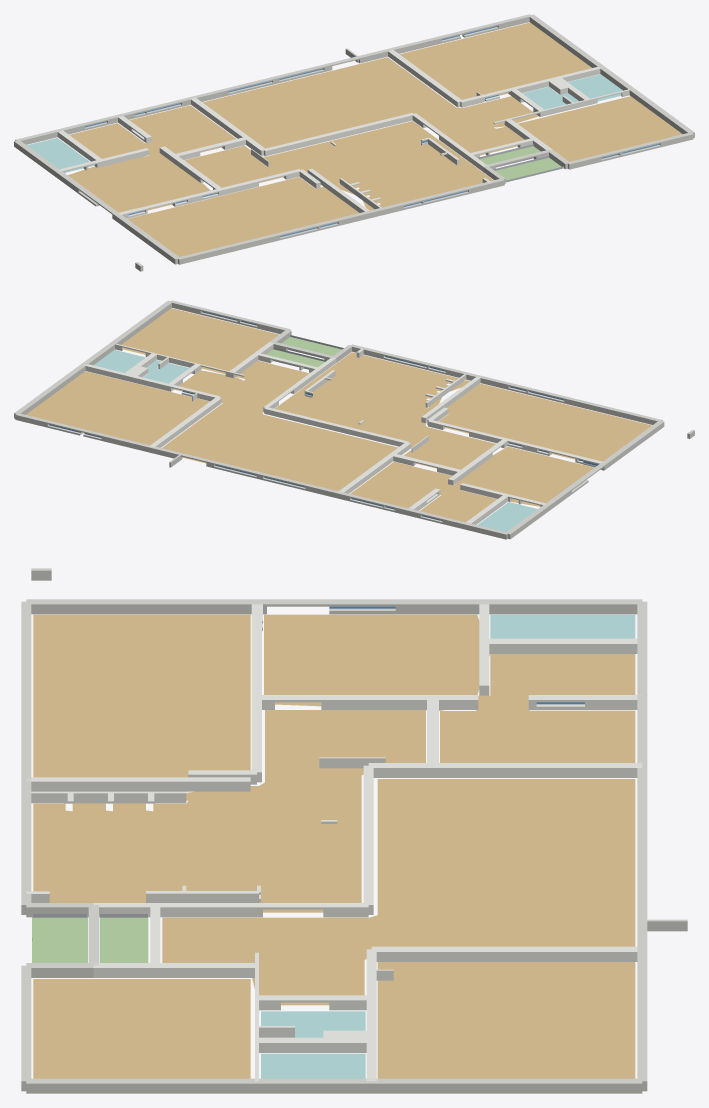
The model's file is Screenshot 2026-10-06 153119_3d.obj.
3 views of the same model, one above another, from view 1: azimuth 30°, elevation 25°; view 2: azimuth 150°, elevation 25°; view 3: azimuth 270°, elevation 25° (orthographic). The views are drawn at different scales.
Parts seen in each view (by area): view 1: floor_R4_living_196, floor_R6_living_198, floor_R3_living_195, floor_R10_living_202, floor_R5_living_197, floor_R9_living_201, wall_W15_46, floor_R2_bathroom_194, wall_W31_90, floor_R8_bathroom_200, wall_W62_151, wall_W71_162 (+11 smaller); view 2: floor_R4_living_196, floor_R6_living_198, floor_R3_living_195, floor_R10_living_202, floor_R5_living_197, floor_R9_living_201, wall_W15_46, floor_R2_bathroom_194, wall_W31_90, wall_W71_162, wall_W62_151, floor_R8_bathroom_200 (+10 smaller); view 3: floor_R4_living_196, floor_R6_living_198, floor_R10_living_202, floor_R3_living_195, floor_R5_living_197, floor_R9_living_201, wall_W71_162, wall_W62_151, wall_W73_164, floor_R2_bathroom_194, wall_W40_121, wall_W49_136 (+20 smaller).
Boxes of the visible parts, x1=… form: floor_R4_living_196: x1=202, y1=57, x2=538, y2=155; floor_R6_living_198: x1=184, y1=121, x2=493, y2=210; floor_R3_living_195: x1=68, y1=105, x2=235, y2=212; floor_R10_living_202: x1=128, y1=177, x2=358, y2=256; floor_R5_living_197: x1=400, y1=22, x2=591, y2=99; floor_R9_living_201: x1=518, y1=96, x2=682, y2=161; wall_W15_46: x1=263, y1=113, x2=414, y2=156; floor_R2_bathroom_194: x1=27, y1=138, x2=94, y2=172; wall_W31_90: x1=177, y1=233, x2=279, y2=264; floor_R8_bathroom_200: x1=568, y1=74, x2=622, y2=101; wall_W62_151: x1=388, y1=49, x2=462, y2=107; wall_W71_162: x1=529, y1=14, x2=604, y2=67; floor_R4_living_196: x1=162, y1=360, x2=397, y2=490; floor_R6_living_198: x1=275, y1=352, x2=495, y2=469; floor_R3_living_195: x1=350, y1=446, x2=593, y2=522; floor_R10_living_202: x1=439, y1=383, x2=651, y2=461; floor_R5_living_197: x1=26, y1=371, x2=209, y2=445; floor_R9_living_201: x1=121, y1=308, x2=279, y2=374; wall_W15_46: x1=264, y1=407, x2=409, y2=446; floor_R2_bathroom_194: x1=478, y1=502, x2=537, y2=531; wall_W31_90: x1=564, y1=396, x2=662, y2=424; wall_W71_162: x1=14, y1=364, x2=85, y2=418; wall_W62_151: x1=149, y1=397, x2=221, y2=447; floor_R8_bathroom_200: x1=94, y1=350, x2=145, y2=372; floor_R4_living_196: x1=162, y1=779, x2=635, y2=1005; floor_R6_living_198: x1=33, y1=710, x2=425, y2=912; floor_R10_living_202: x1=33, y1=614, x2=250, y2=777; floor_R3_living_195: x1=264, y1=614, x2=635, y2=762; floor_R5_living_197: x1=377, y1=962, x2=635, y2=1078; floor_R9_living_201: x1=33, y1=979, x2=250, y2=1078; wall_W71_162: x1=371, y1=1078, x2=642, y2=1093; wall_W62_151: x1=371, y1=946, x2=637, y2=961; wall_W73_164: x1=26, y1=1078, x2=256, y2=1093; floor_R2_bathroom_194: x1=490, y1=614, x2=635, y2=638; wall_W40_121: x1=26, y1=599, x2=256, y2=614; wall_W49_136: x1=26, y1=777, x2=250, y2=791.
Bounding box in the file's own units: 303 × 2.75 × 166.
